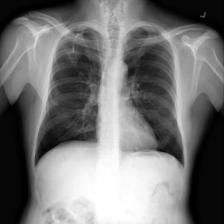normal: (33, 22, 189, 171)
